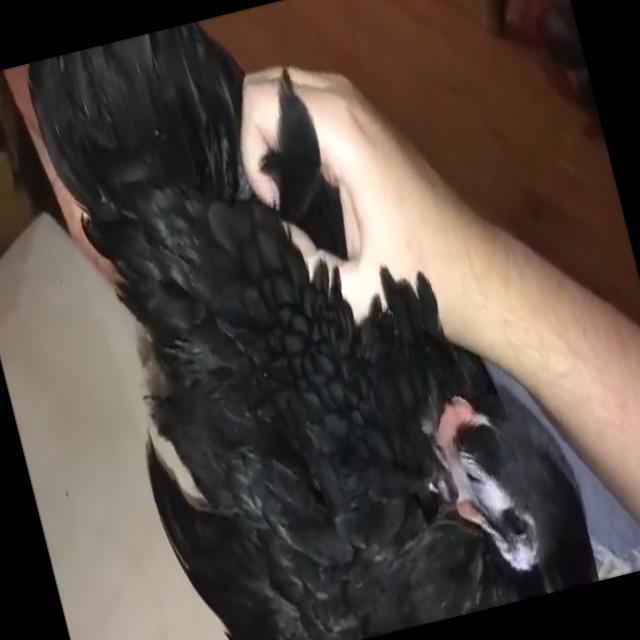self preening: (16, 0, 617, 640)
